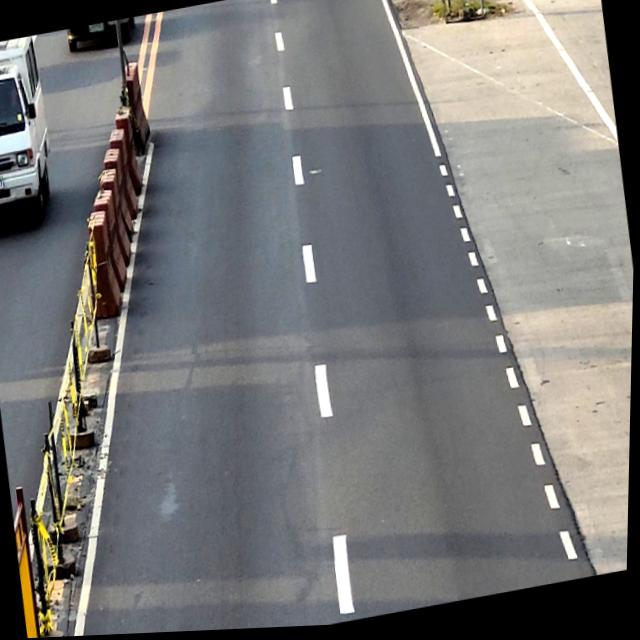Car: (0, 35, 61, 229)
License-Plate: (0, 177, 5, 191)
